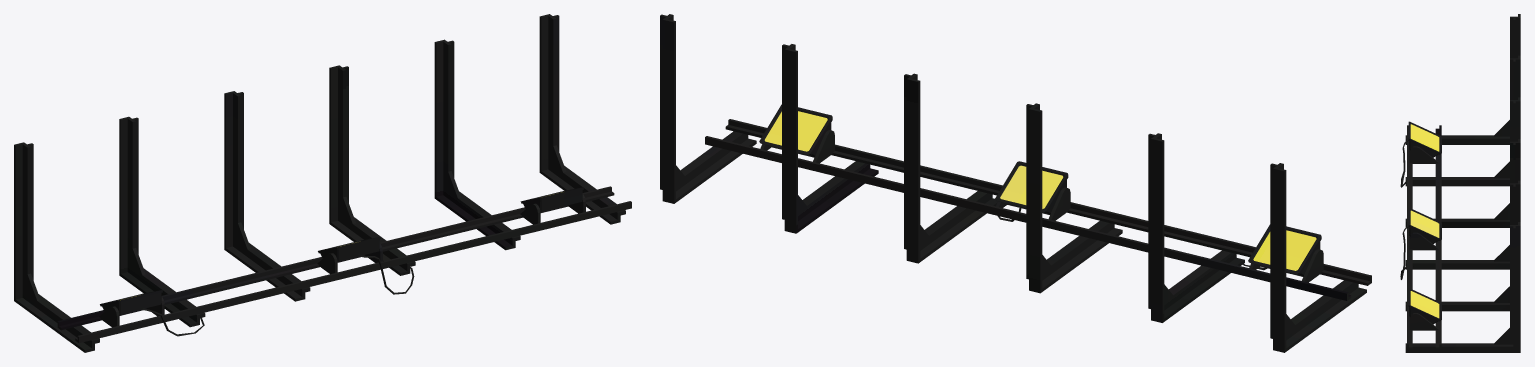
The model's file is Highway_Segment_Sign_Light01.fbx.
3 renders of one model, left to right at view 1: azimuth 30°, elevation 25°; view 2: azimuth 150°, elevation 25°; view 3: azimuth 270°, elevation 25°, orthographic. The views are drawn at different scales.
Parts seen in each view (by area): view 1: SM_City_Highway_Sign_Lights_01b.mo; view 2: SM_City_Highway_Sign_Lights_01b.mo; view 3: SM_City_Highway_Sign_Lights_01b.mo.
Part boxes in pixels (x1,y1,x2,y2): SM_City_Highway_Sign_Lights_01b.mo: (14,14,631,352); SM_City_Highway_Sign_Lights_01b.mo: (660,14,1371,352); SM_City_Highway_Sign_Lights_01b.mo: (1400,14,1520,352).
Bounding box in the file's own units: 365 × 109 × 84.6.
